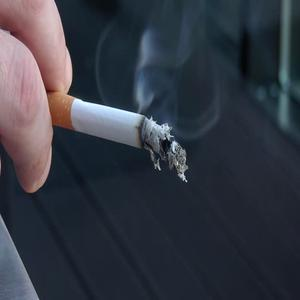cigarette: (41, 86, 197, 184)
